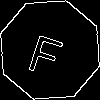F: (25, 25, 68, 78)
